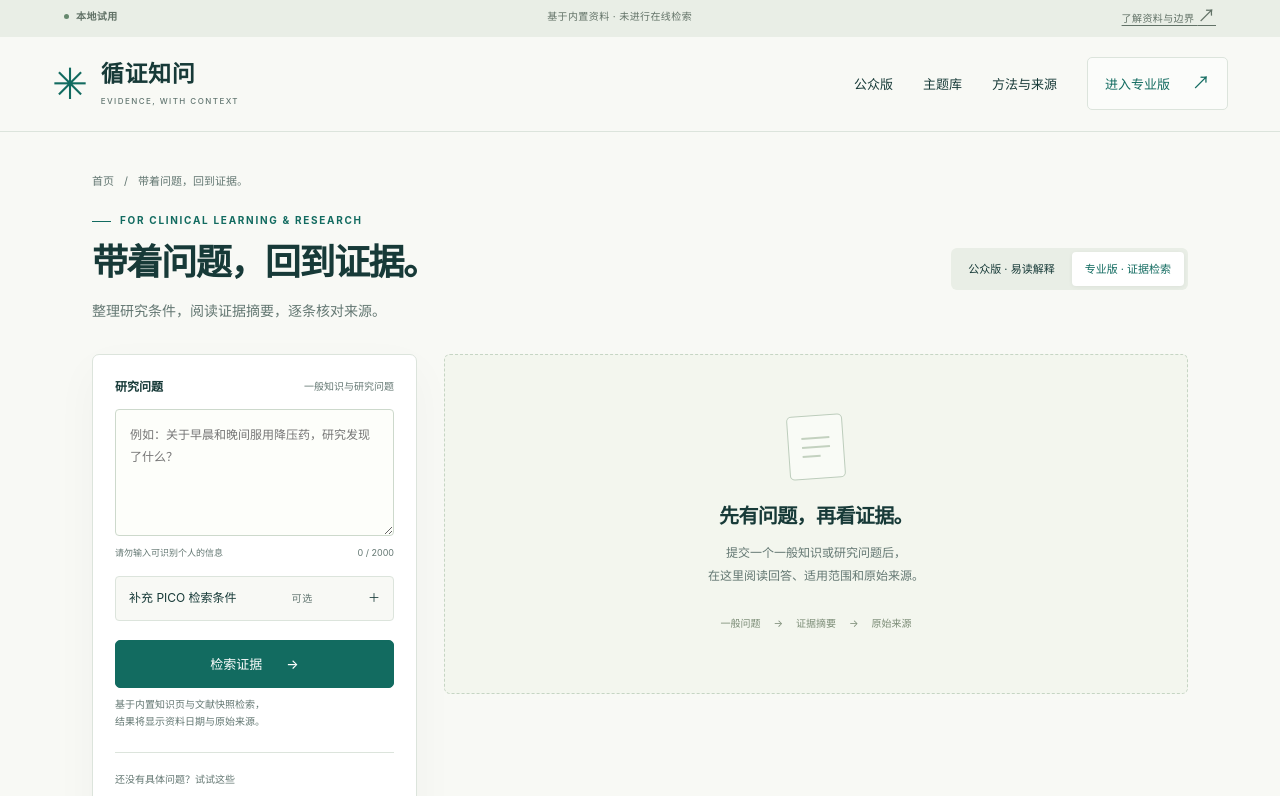
question workbench › validates input before requests and preserves draft/PICO between audiences
Click the button "检索证据 →". click: (254, 664)
box: top-left (115, 640), bottom-right (394, 688)
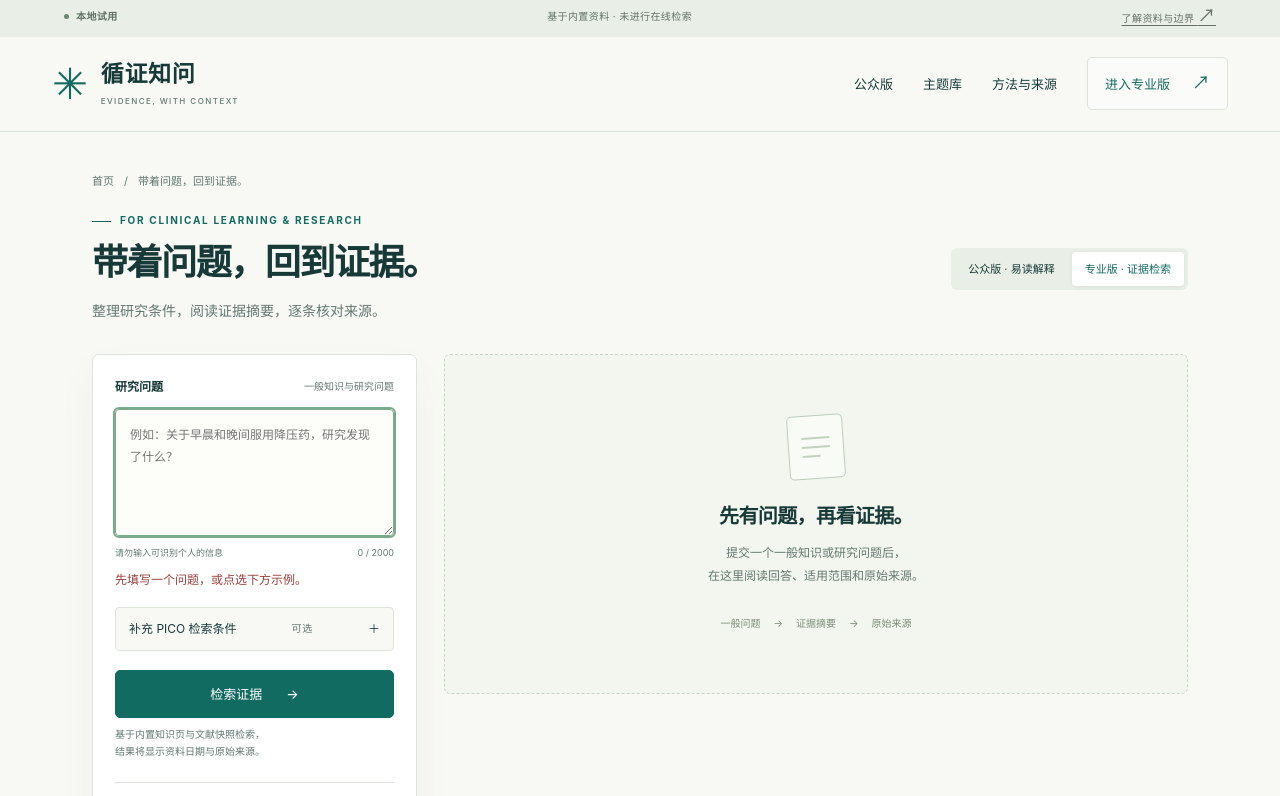
expect the message shows "填写": met, box top-left (115, 572), bottom-right (307, 587)
Type "一般研究问题" into the text box labelled "研究问题". click: (254, 472)
box: top-left (115, 409), bottom-right (394, 536)
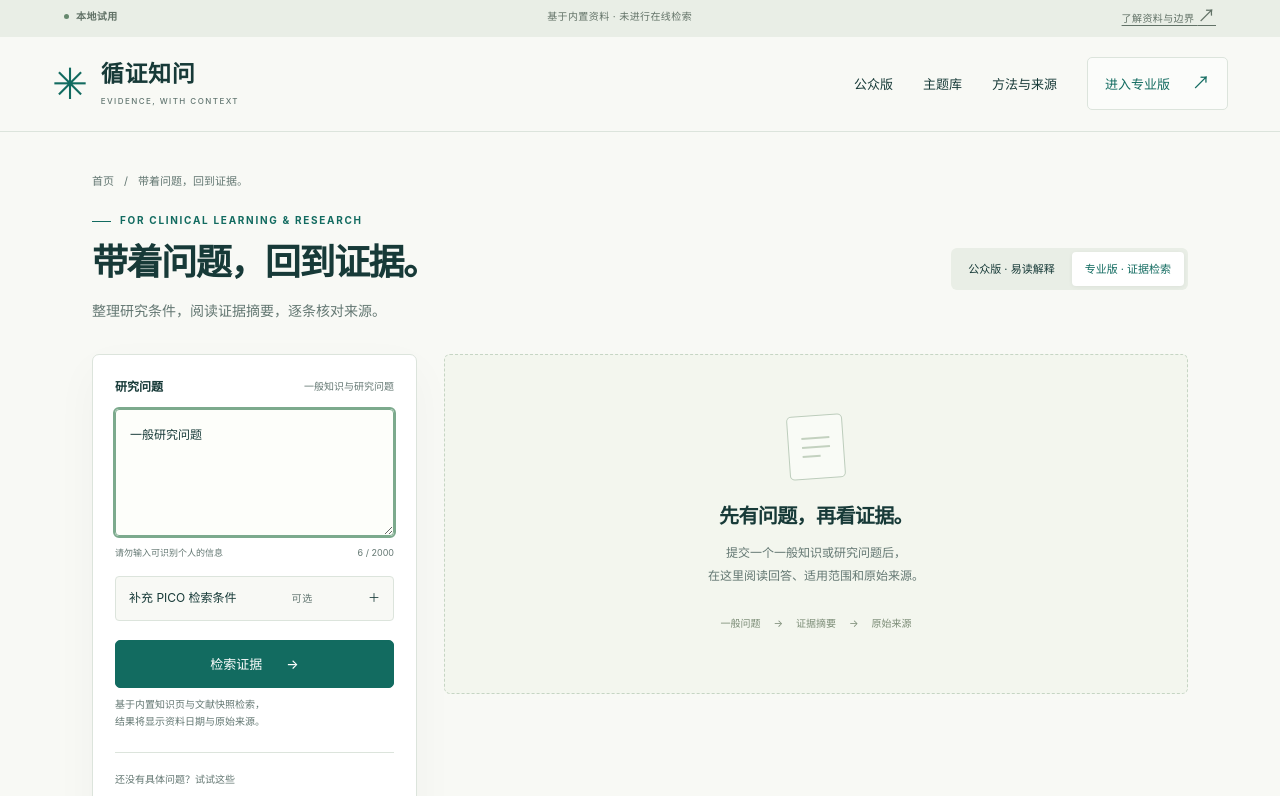
Click the text "补充 PICO 检索条件". click: (183, 598)
box: top-left (129, 588), bottom-right (237, 609)
(page scrolled)
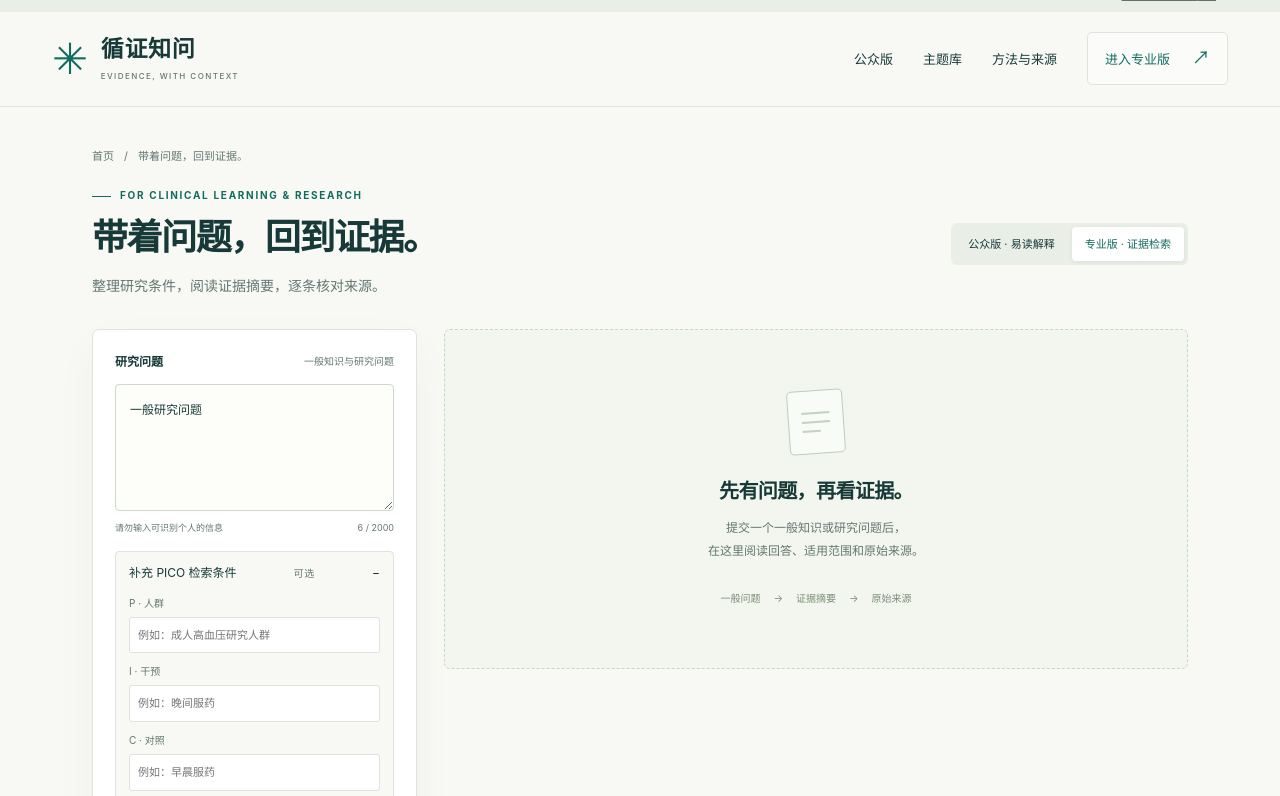
Type "成年人" into the field labelled "P · 人群". click: (254, 635)
box: top-left (129, 617), bottom-right (380, 653)
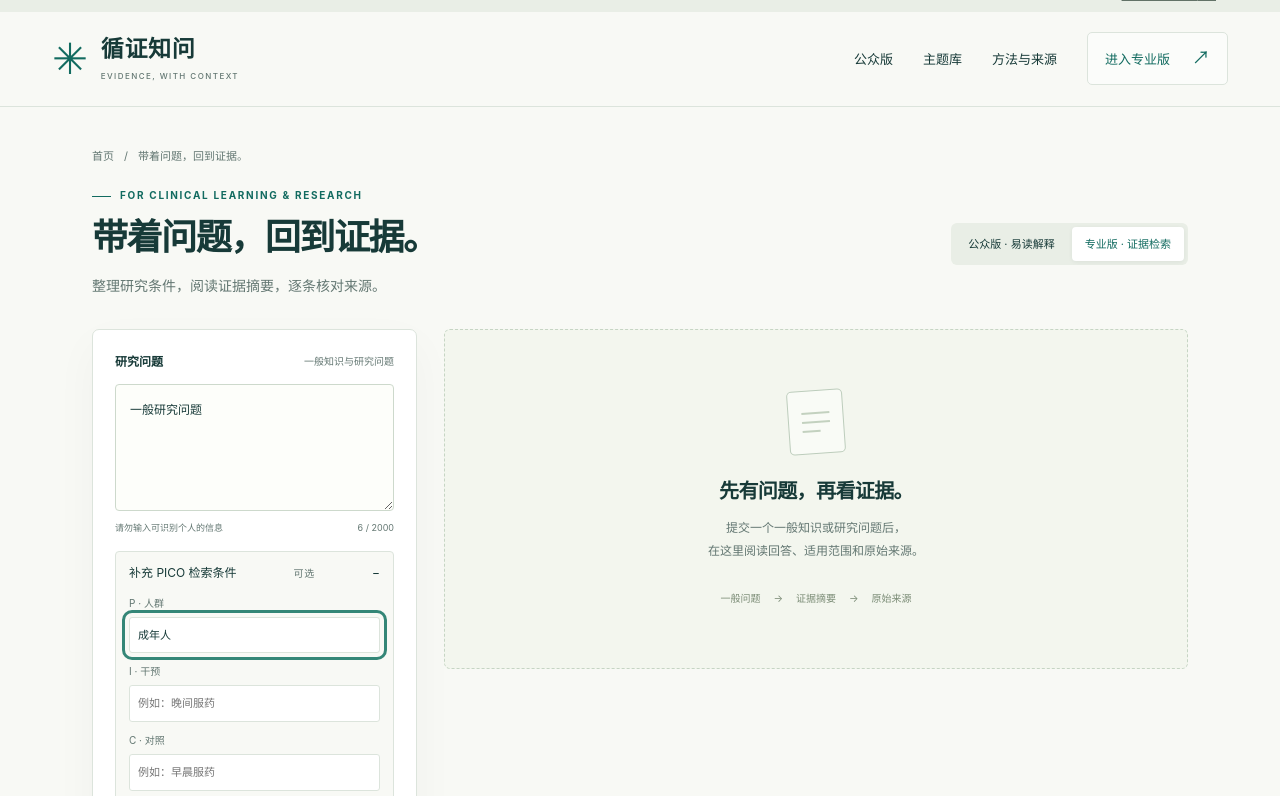
Click the link "公众版 · 易读解释". click: (1012, 244)
box: top-left (968, 237), bottom-right (1055, 251)
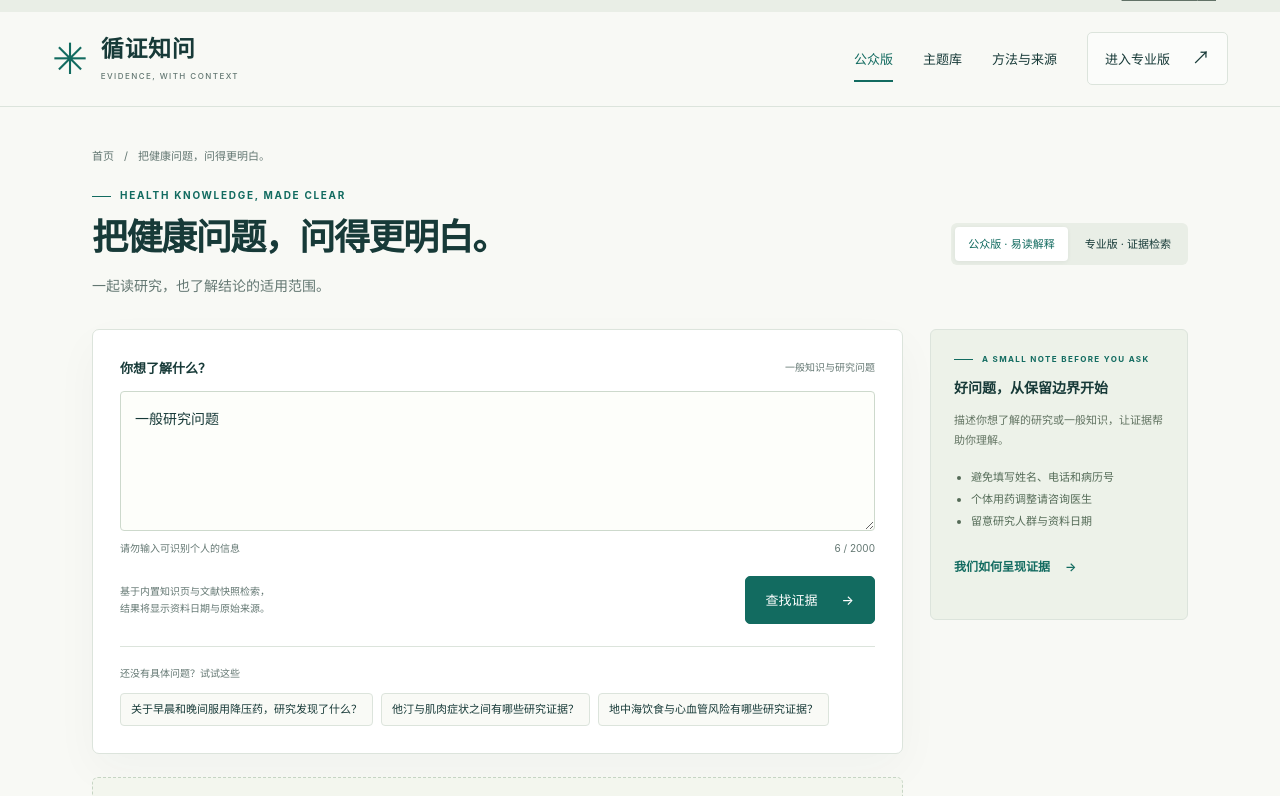
Click the link "专业版 · 证据检索". click: (1128, 244)
box: top-left (1085, 237), bottom-right (1171, 251)
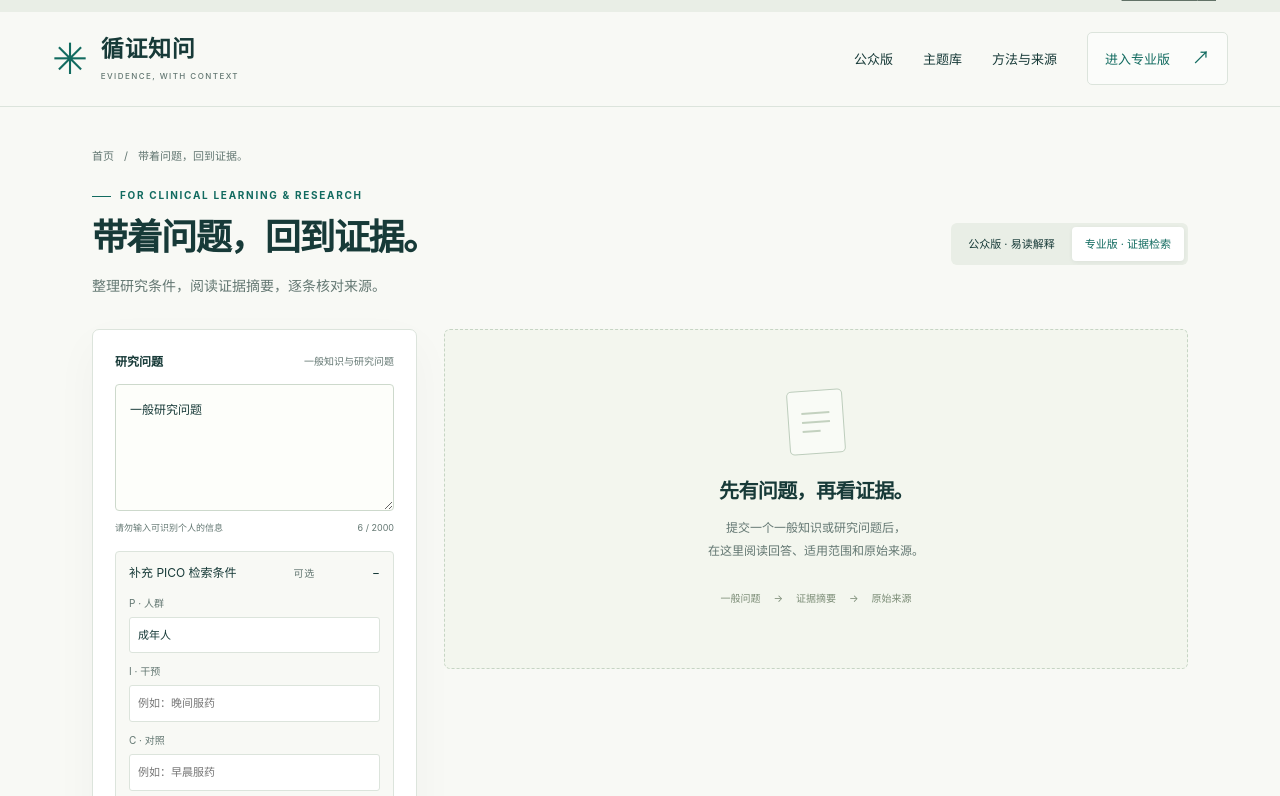
expect the field labelled "P · 人群" holds "成年人": met, box top-left (129, 617), bottom-right (380, 653)
